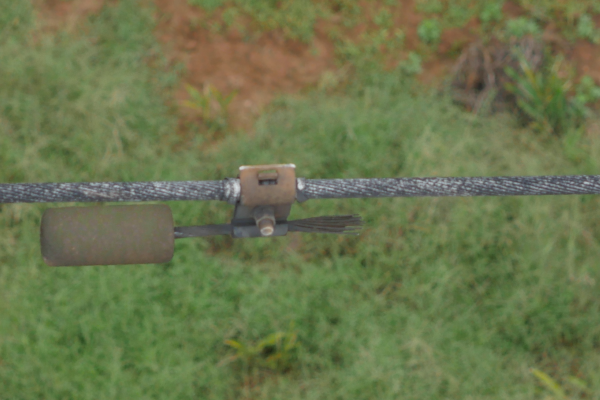damper_defect: (33, 157, 370, 273)
